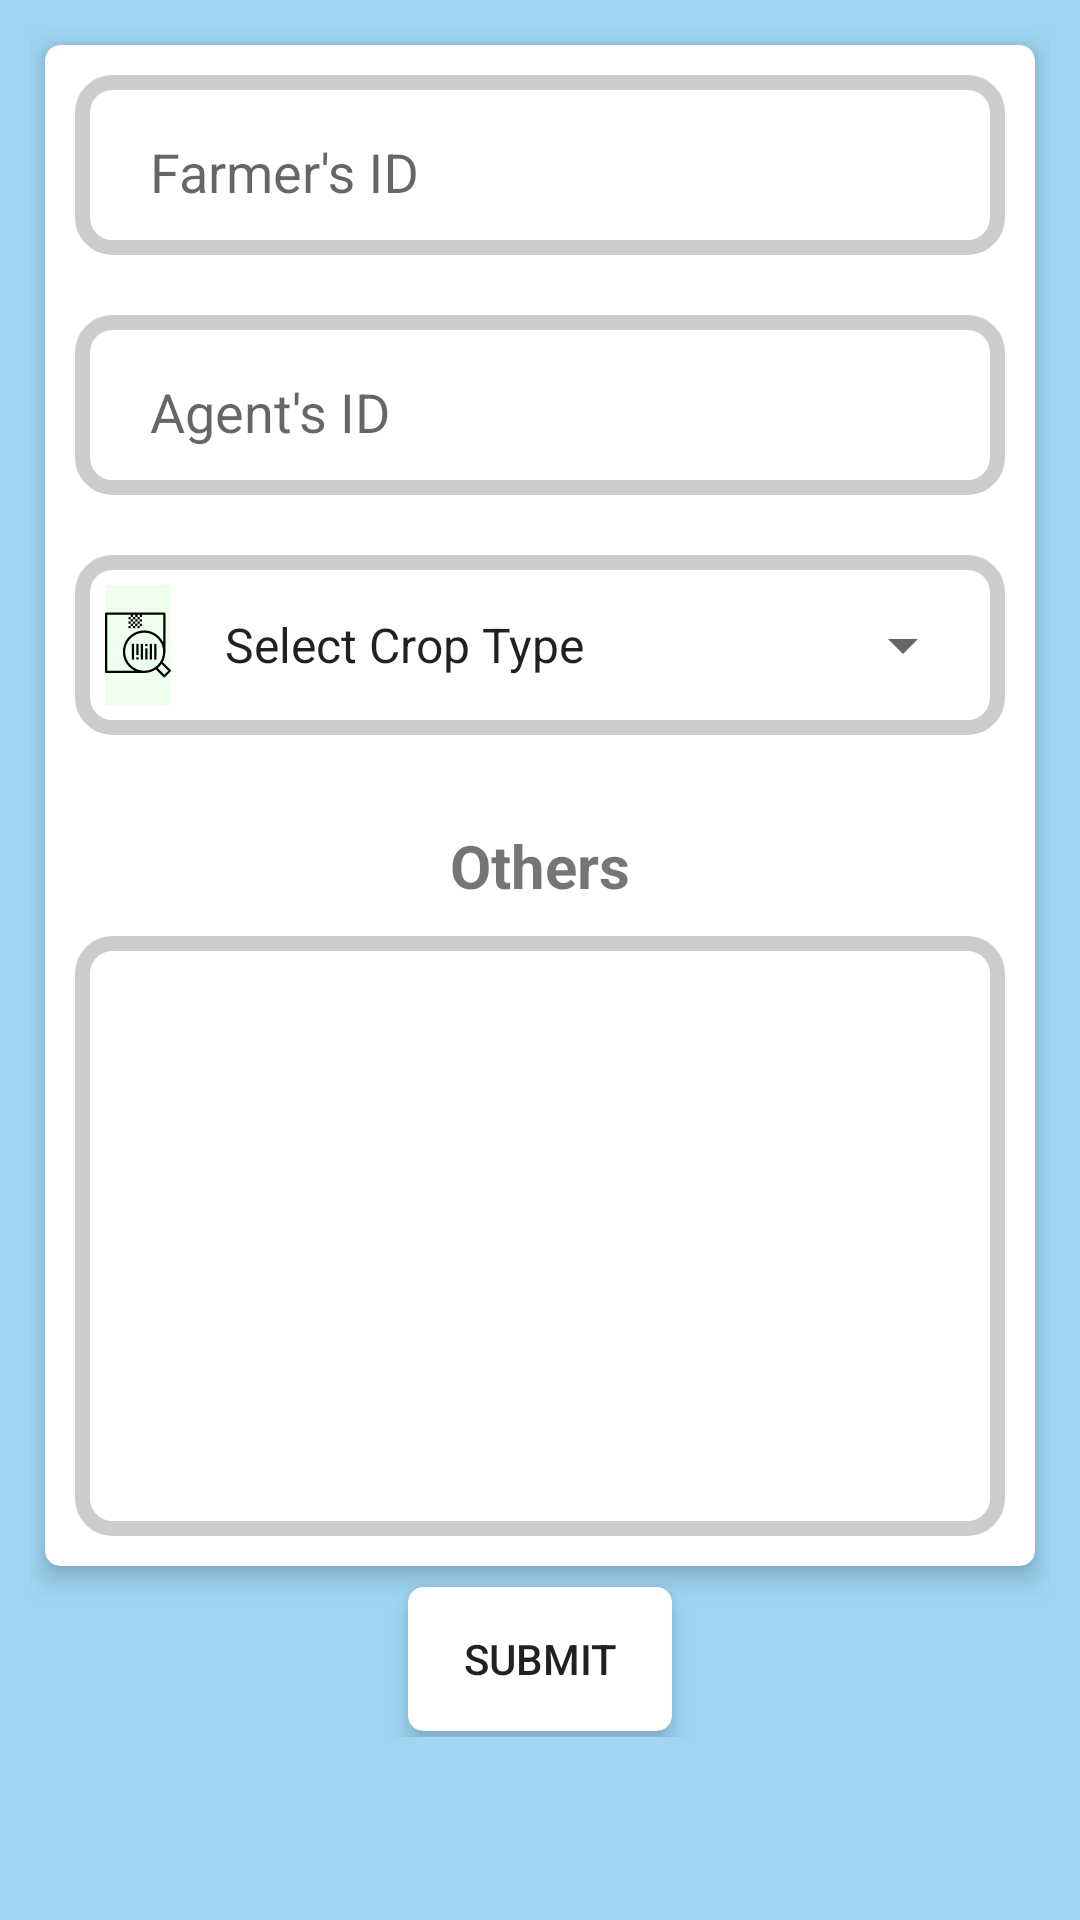

Icons on this 1080px×1920px Android screen, each with the point to tap as (x,y):
package: (138,645)
